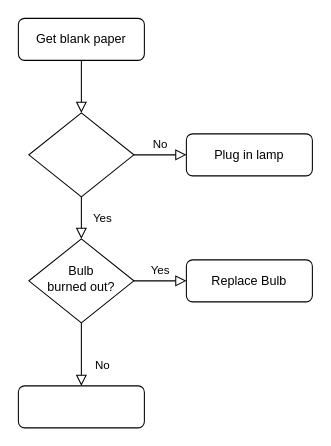
The diagram is 331 pixels wide and 446 high, and some of its shapes have lost their labels. The centre of each missing label's shape, as x and y in pixels:
"Lamp plugged in?" belongs at (x=81, y=154).
"Repair Lamp" belongs at (x=80, y=406).
